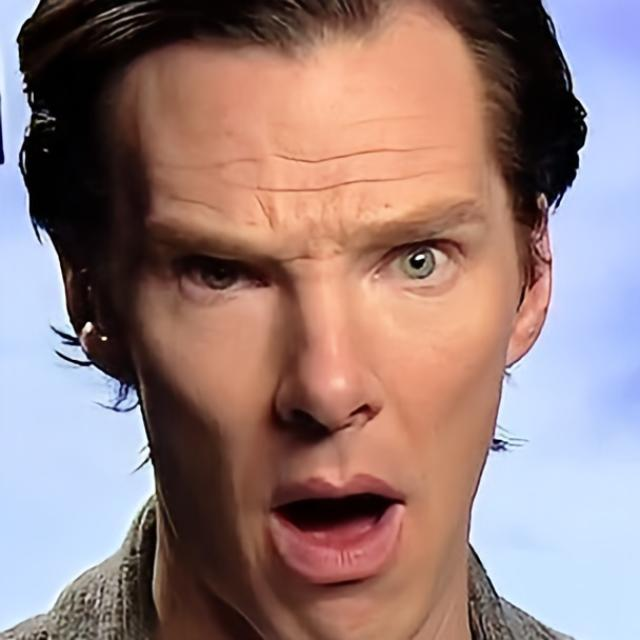anger: (125, 70, 509, 640)
